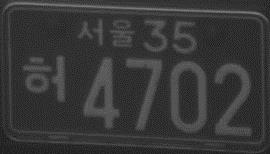0: (167, 58, 209, 133)
2: (210, 61, 254, 137)
3: (142, 18, 168, 52)
4: (82, 55, 122, 130)
5: (170, 20, 197, 55)
7: (122, 55, 164, 132)
서울_O: (76, 17, 136, 49)
허: (21, 51, 67, 104)
